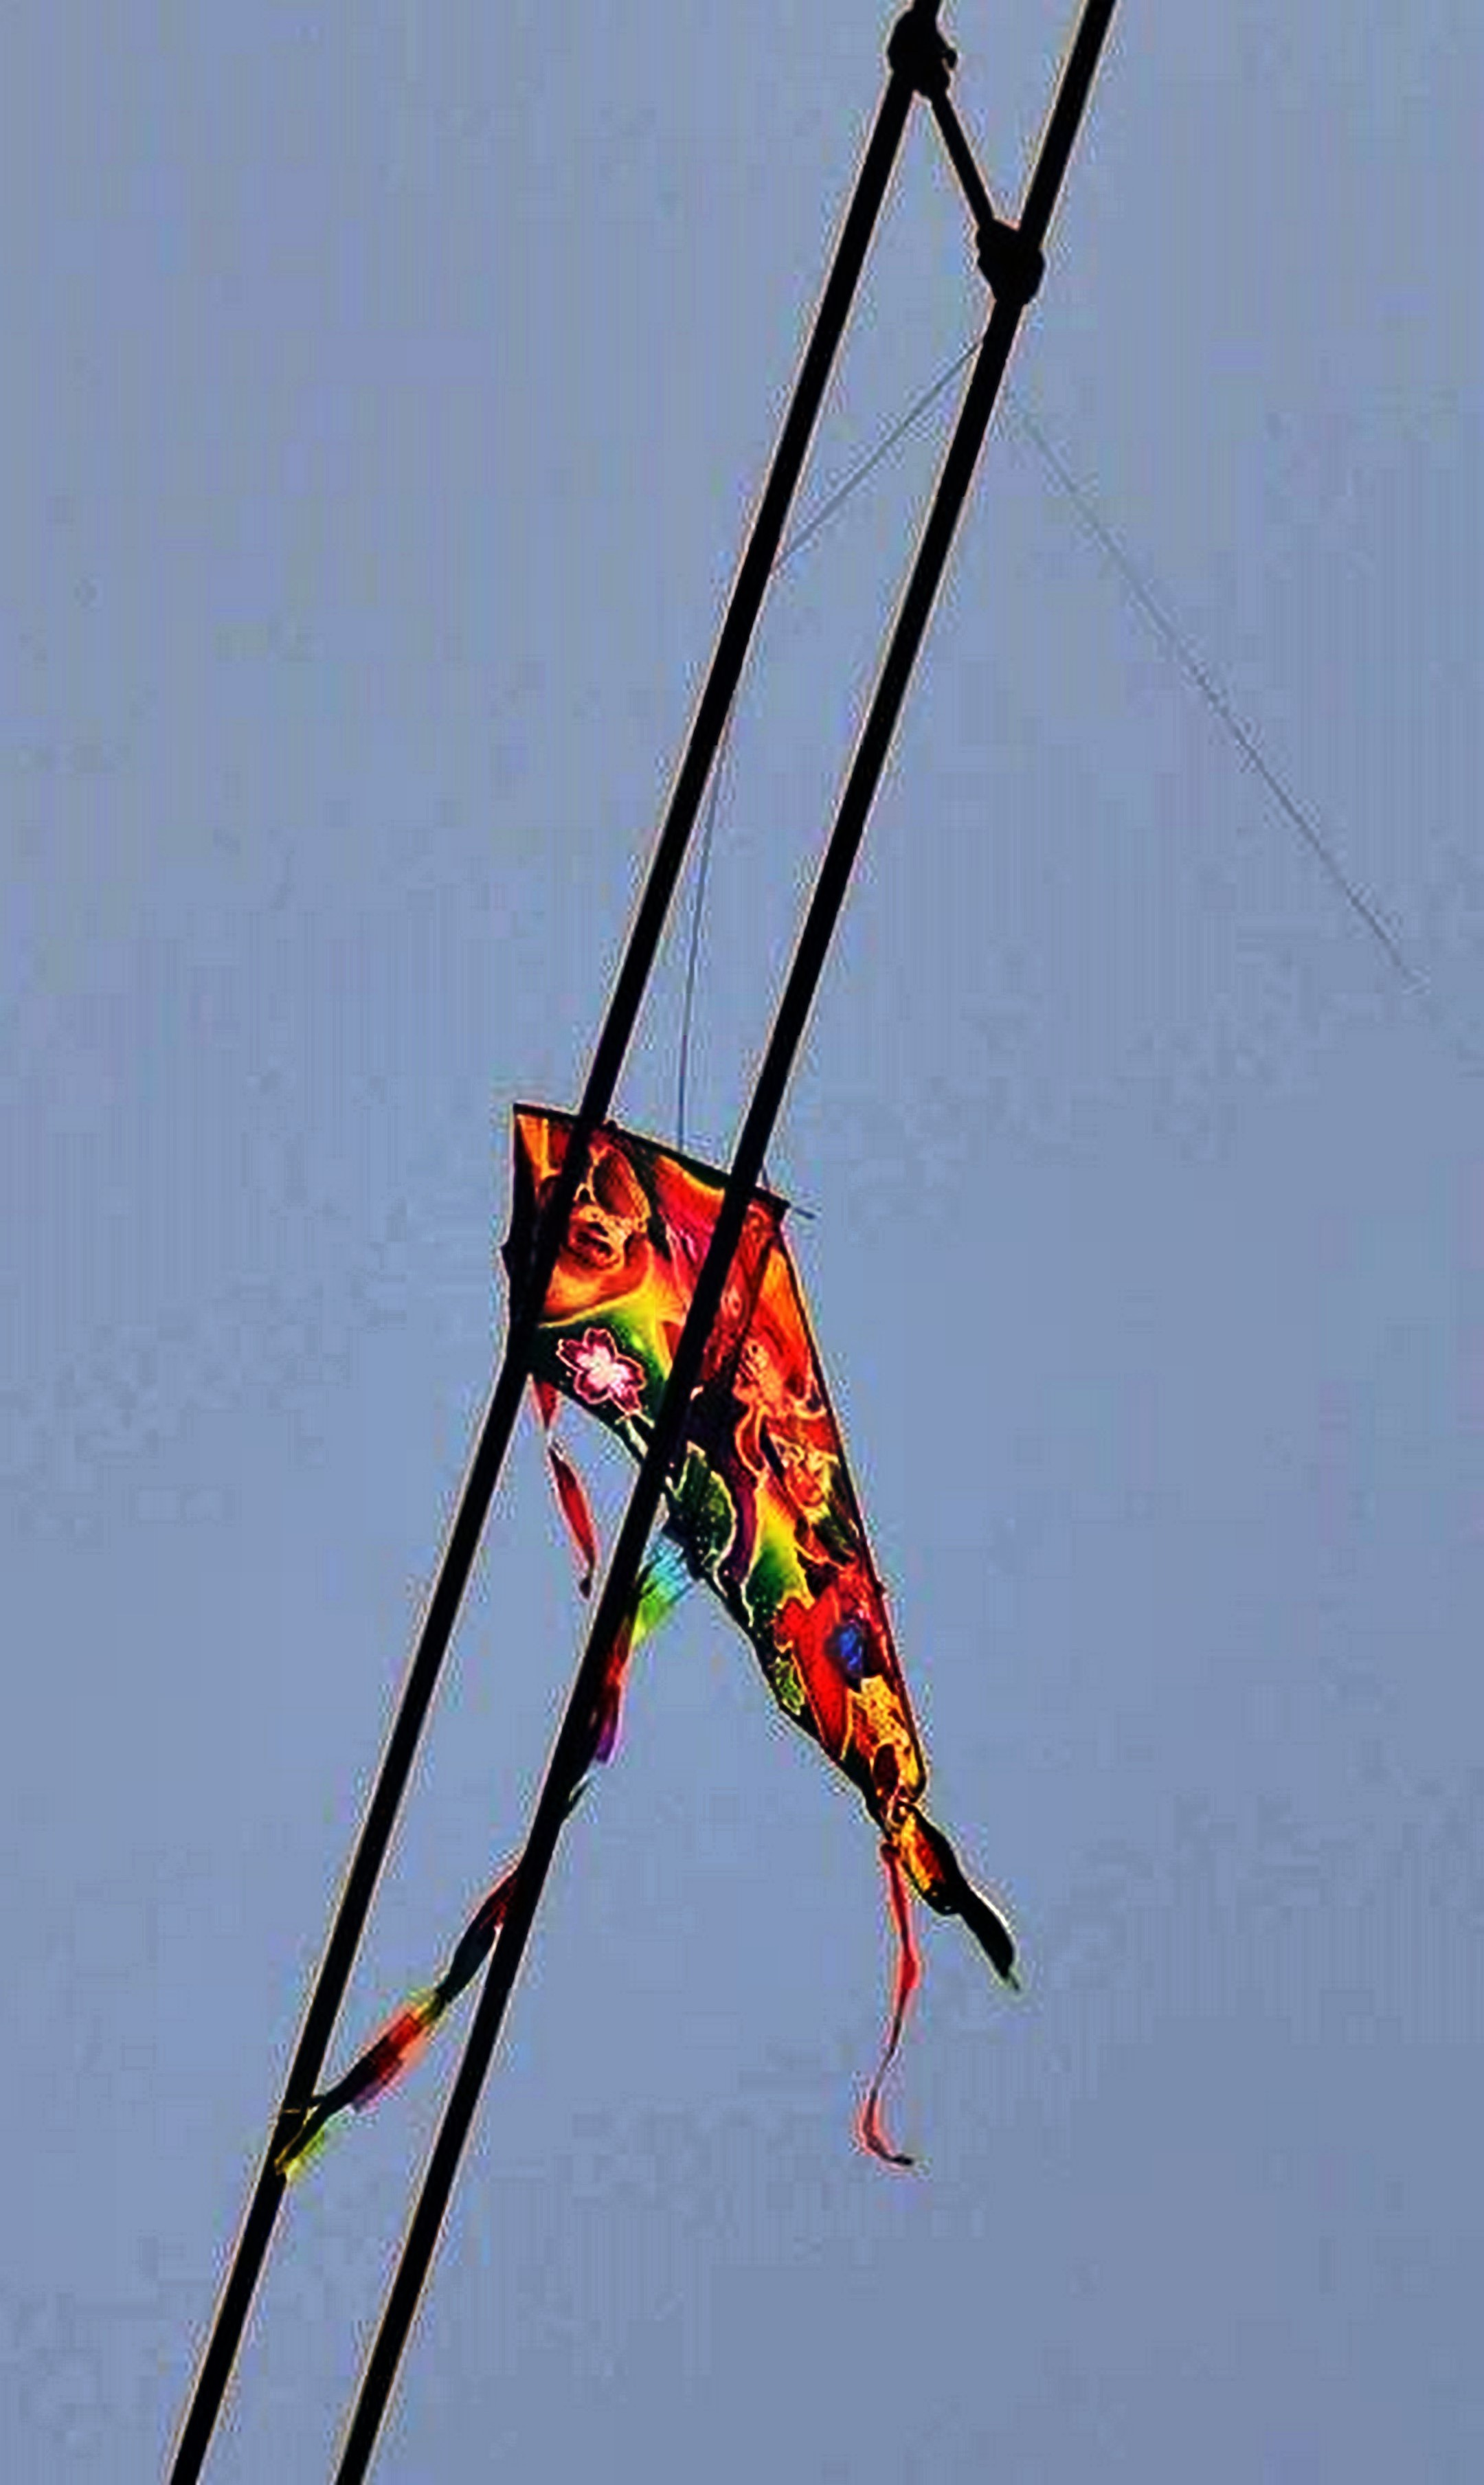wire foreign body: (458, 1049, 1046, 2123)
